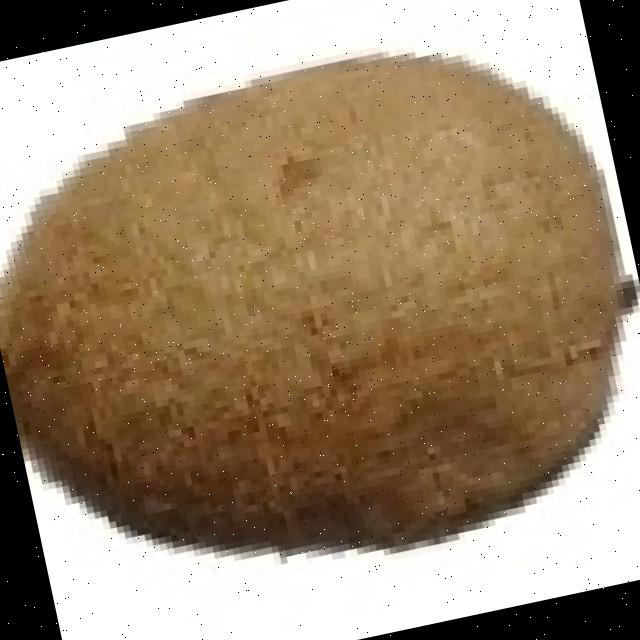kiwi: (0, 47, 638, 539)
